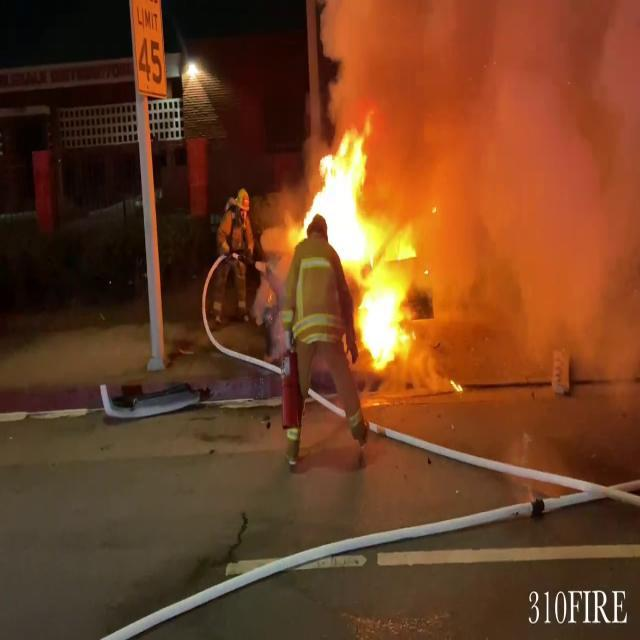Fire: (282, 119, 432, 372)
Smoke: (375, 0, 640, 411)
